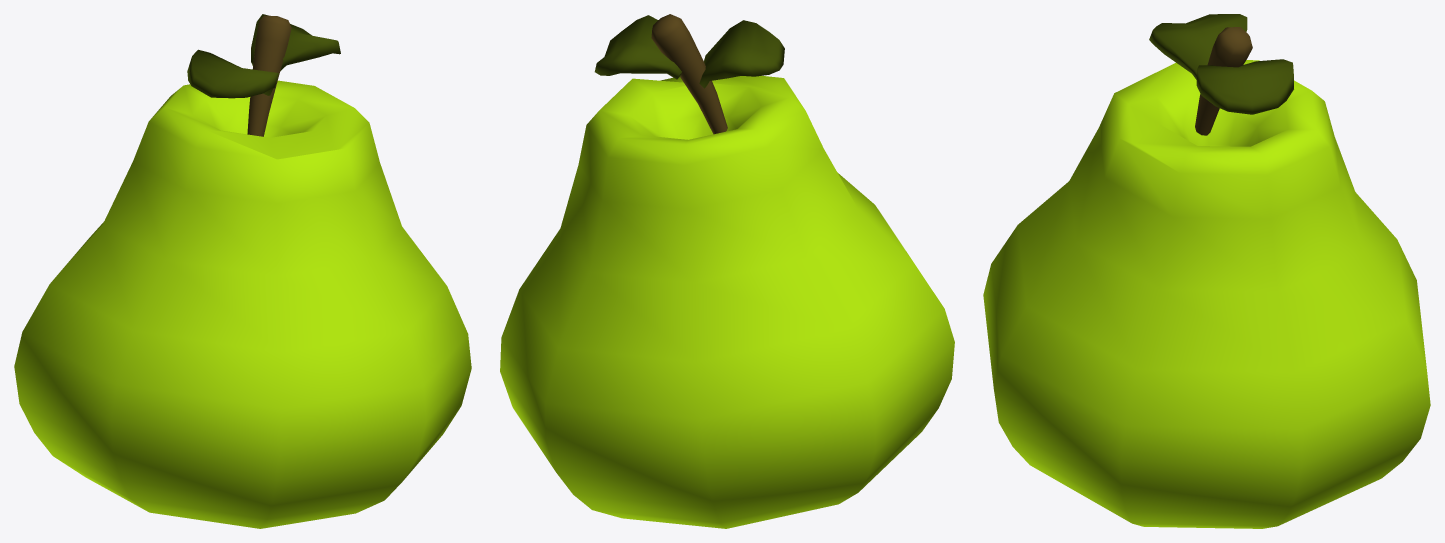
File: Pear.fbx
3 renders of one model, left to right at view 1: azimuth 30°, elevation 25°; view 2: azimuth 150°, elevation 25°; view 3: azimuth 270°, elevation 25°, orthographic. The views are drawn at different scales.
Parts seen in each view (by area): view 1: Pear; view 2: Pear; view 3: Pear.
Part boxes in pixels (bbox=[...]): Pear: bbox=[14, 14, 471, 528]; Pear: bbox=[500, 14, 954, 528]; Pear: bbox=[983, 14, 1430, 528].
Bounding box in the file's own units: 107 × 125 × 107.
